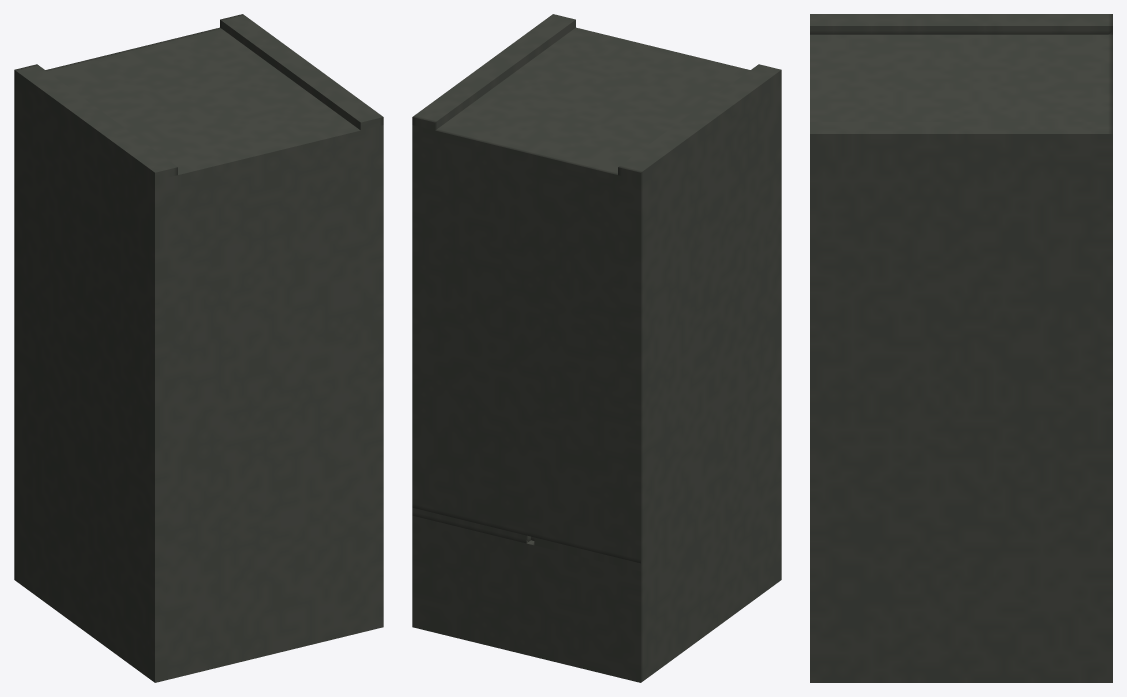
Rendered from przejscie_up_Pusto.dae.
3 views of the same model, side by side, from view 1: azimuth 30°, elevation 25°; view 2: azimuth 150°, elevation 25°; view 3: azimuth 270°, elevation 25° (orthographic). The views are drawn at different scales.
Visible parts, largest first — view 1: Content; view 2: Content; view 3: Content.
Part boxes in pixels (<box>): Content: <box>14,14,383,682</box>; Content: <box>412,14,781,682</box>; Content: <box>810,14,1112,682</box>.
Bounding box in the file's own units: 30 × 64 × 32.
1 material, 1 textured.
